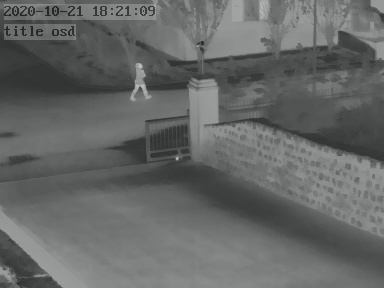person: (131, 62, 152, 102)
